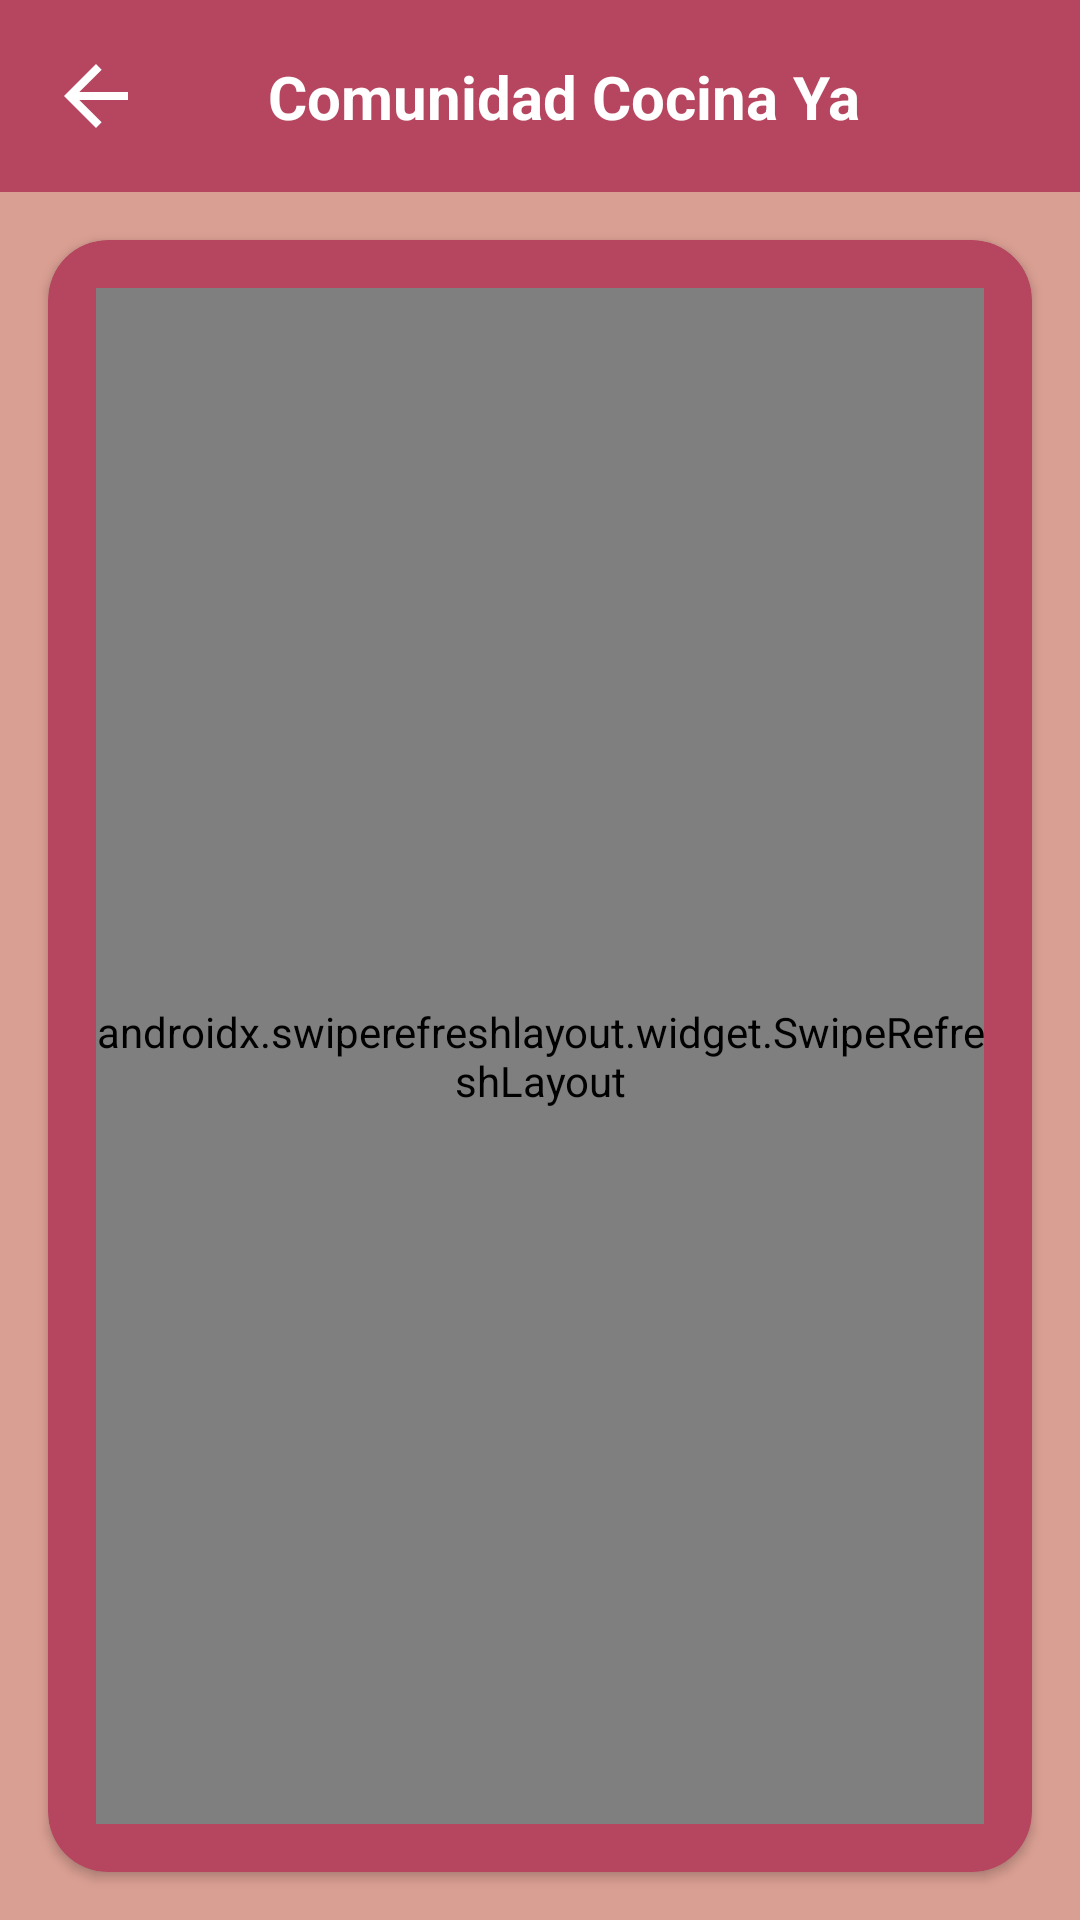

Icon click points for this 1080w x 1920h phone screenshot, format (x,y):
back: (96,96)
